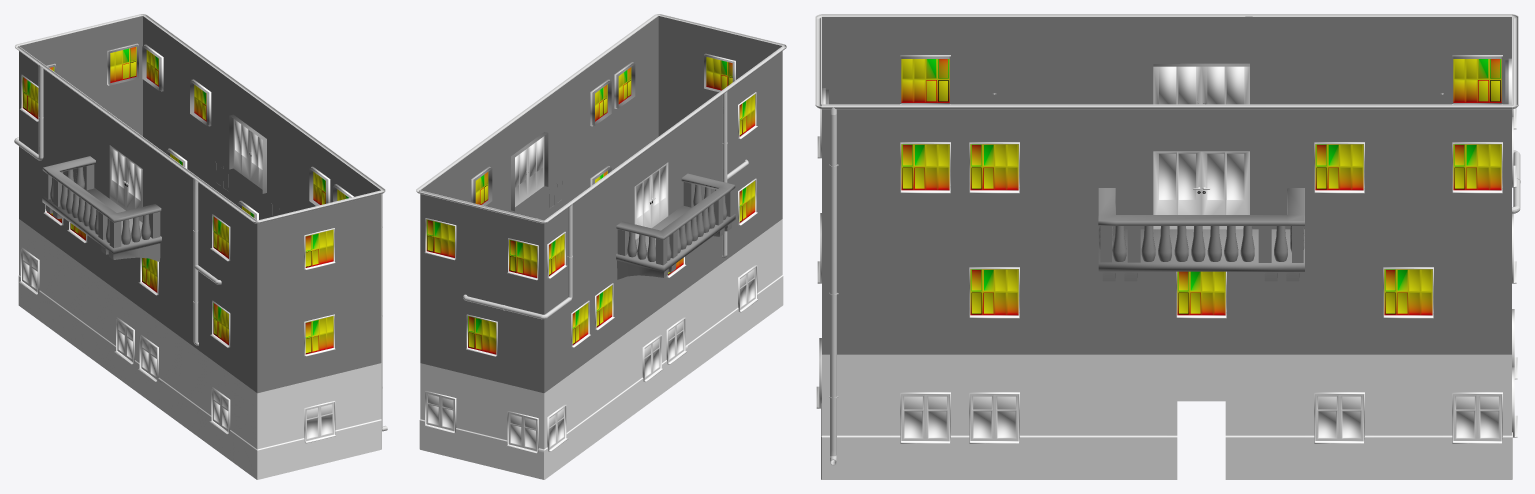
The model's file is edificio1.fbx.
The picture shows the model from 3 angles, left to right: view 1: azimuth 30°, elevation 25°; view 2: azimuth 150°, elevation 25°; view 3: azimuth 270°, elevation 25°; orthographic projection. The views are drawn at different scales.
Parts seen in each view (by area): view 1: piani sup., 1°piano, finestre, balcone005, tubature, porte/finestre; view 2: piani sup., 1°piano, finestre, balcone005, tubature, porte/finestre; view 3: piani sup., 1°piano, finestre, balcone005, tubature, porte/finestre.
Part boxes in pixels (x1,y1,x2,y2): piani sup.: (19, 16, 381, 393); 1°piano: (18, 219, 381, 479); finestre: (19, 43, 353, 443); balcone005: (42, 156, 284, 261); tubature: (14, 14, 387, 431); porte/finestre: (109, 119, 262, 222); piani sup.: (420, 16, 782, 392); 1°piano: (419, 219, 783, 479); finestre: (424, 53, 758, 453); balcone005: (549, 173, 735, 279); tubature: (416, 14, 786, 319); porte/finestre: (515, 136, 668, 239); piani sup.: (822, 16, 1511, 354); 1°piano: (821, 354, 1512, 479); finestre: (816, 55, 1517, 443); balcone005: (1098, 188, 1304, 281); tubature: (815, 14, 1520, 465); porte/finestre: (1153, 66, 1249, 229).
Size of the model in its own units: 10.68 by 12 by 20.45.
